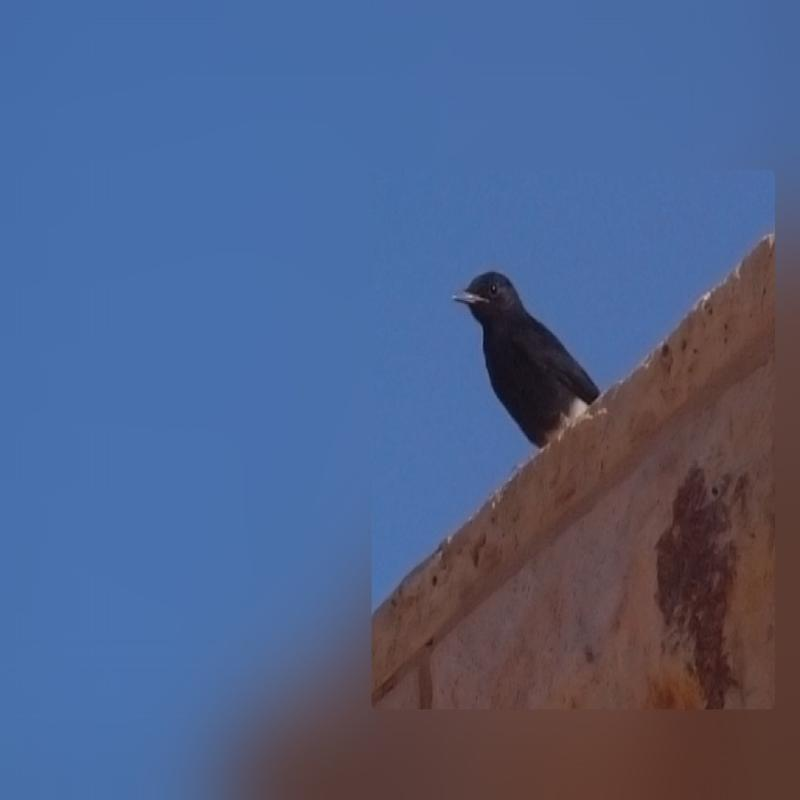white-crowned wheatear: (443, 258, 608, 450)
